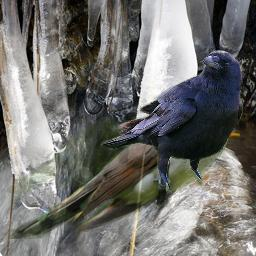Crow: (101, 50, 243, 193)
Cuckoo: (7, 117, 240, 239)
